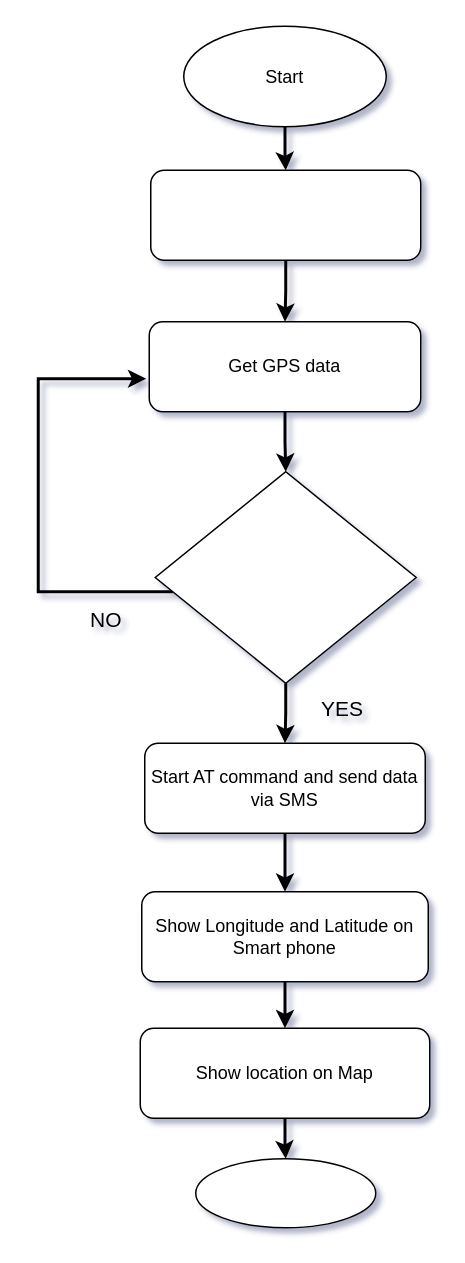
The diagram is 465 pixels wide and 1263 high, and some of its shapes have lost their labels. The shapes that lost their labels are listed below. From the top down, each one's centre as x and y in pixels, then its label:
pixel 285 214: Device switch on (GPS, GSM)
pixel 285 576: Connect to GPRS?
pixel 285 1192: END
